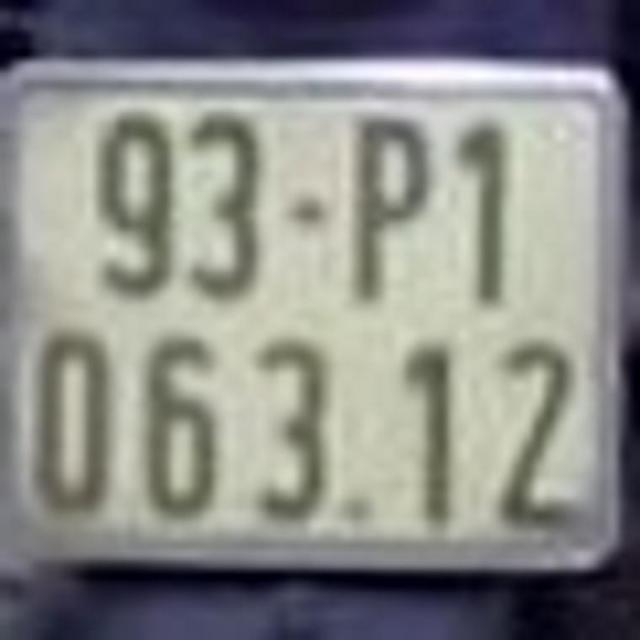0: (30, 318, 110, 512)
1: (387, 333, 457, 528), (448, 109, 516, 298)
2: (495, 327, 581, 528)
3: (244, 327, 333, 523), (183, 100, 260, 302)
6: (132, 326, 224, 516)
9: (86, 98, 176, 297)
P: (345, 105, 435, 306)
